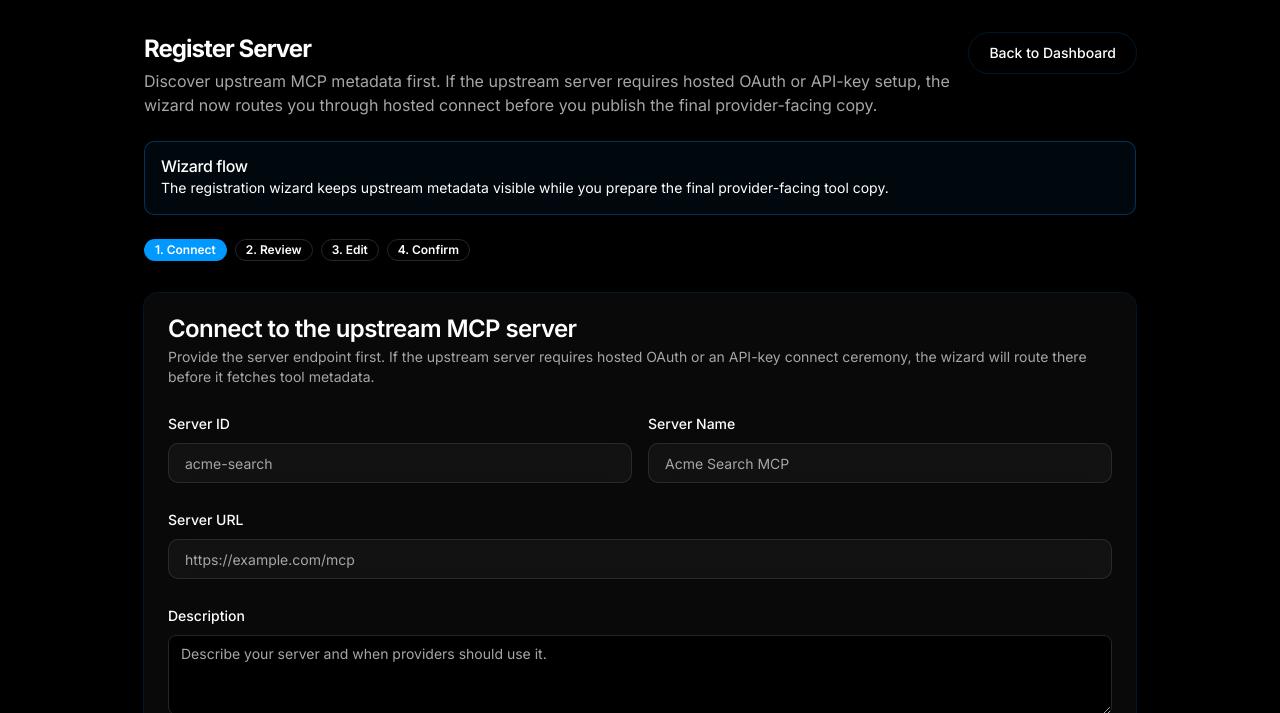
it: RegisterServer page › shows the raw schema fallback when structured parameter metadata is unavailable
Type "srv" into the field labelled "Server ID".
click(400, 463); type("srv")  # box x1=168 y1=443 x2=632 y2=483
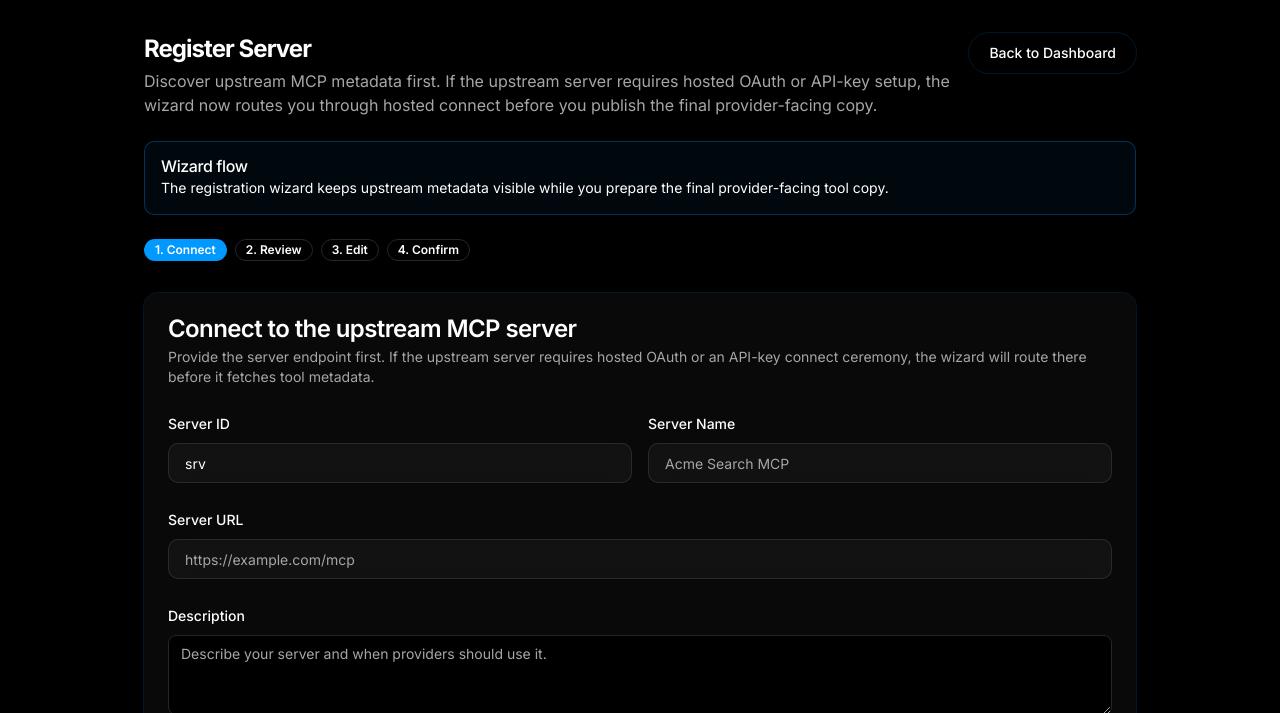
Type "Owned Server" into the field labelled "Server Name".
click(880, 463); type("Owned Server")  # box x1=648 y1=443 x2=1112 y2=483
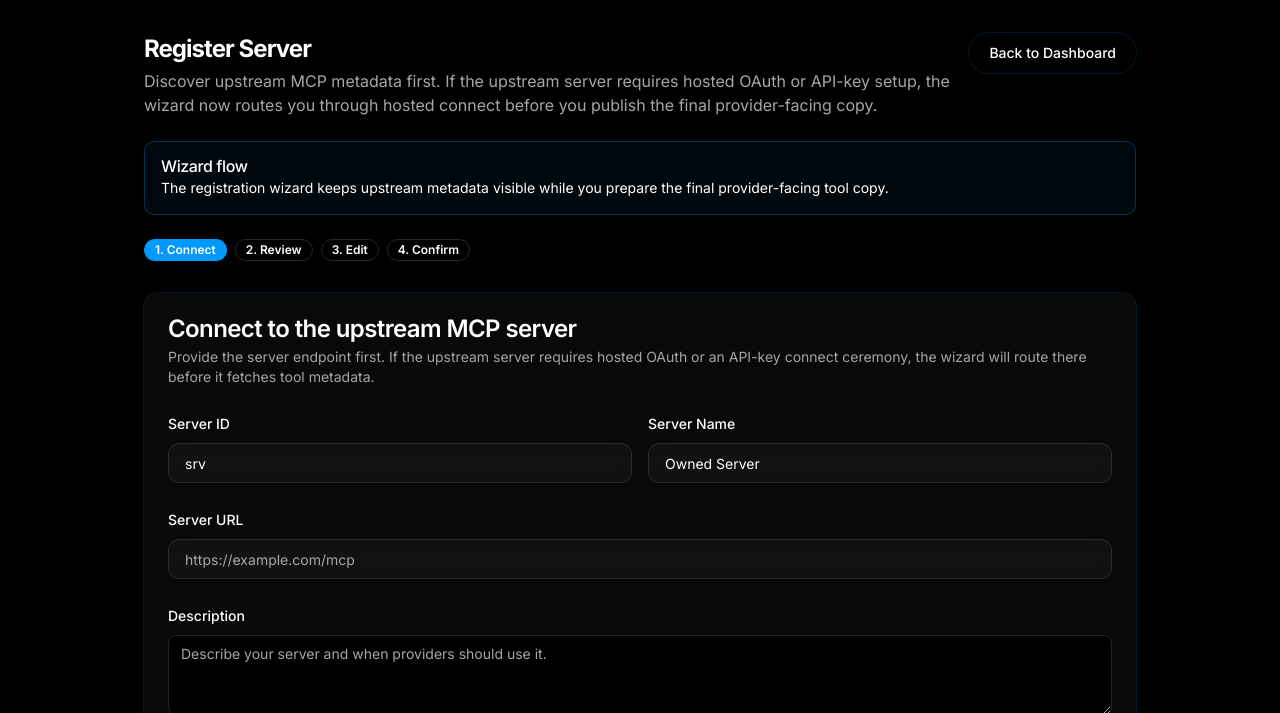
Type "https://provider.test/mcp" into the field labelled "Server URL".
click(640, 559); type("https://provider.test/mcp")  # box x1=168 y1=539 x2=1112 y2=579
(page scrolled)
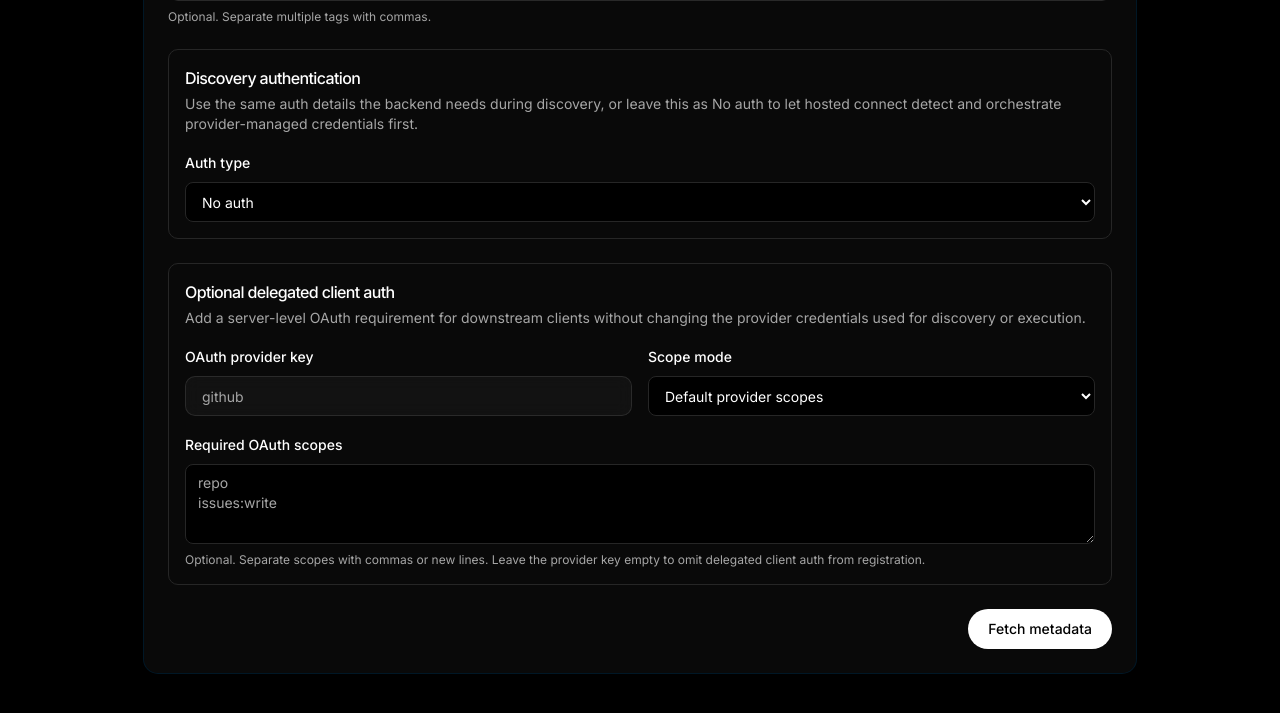
Click the button "Fetch metadata".
click(1040, 629)  # box x1=968 y1=609 x2=1112 y2=649
(page scrolled)
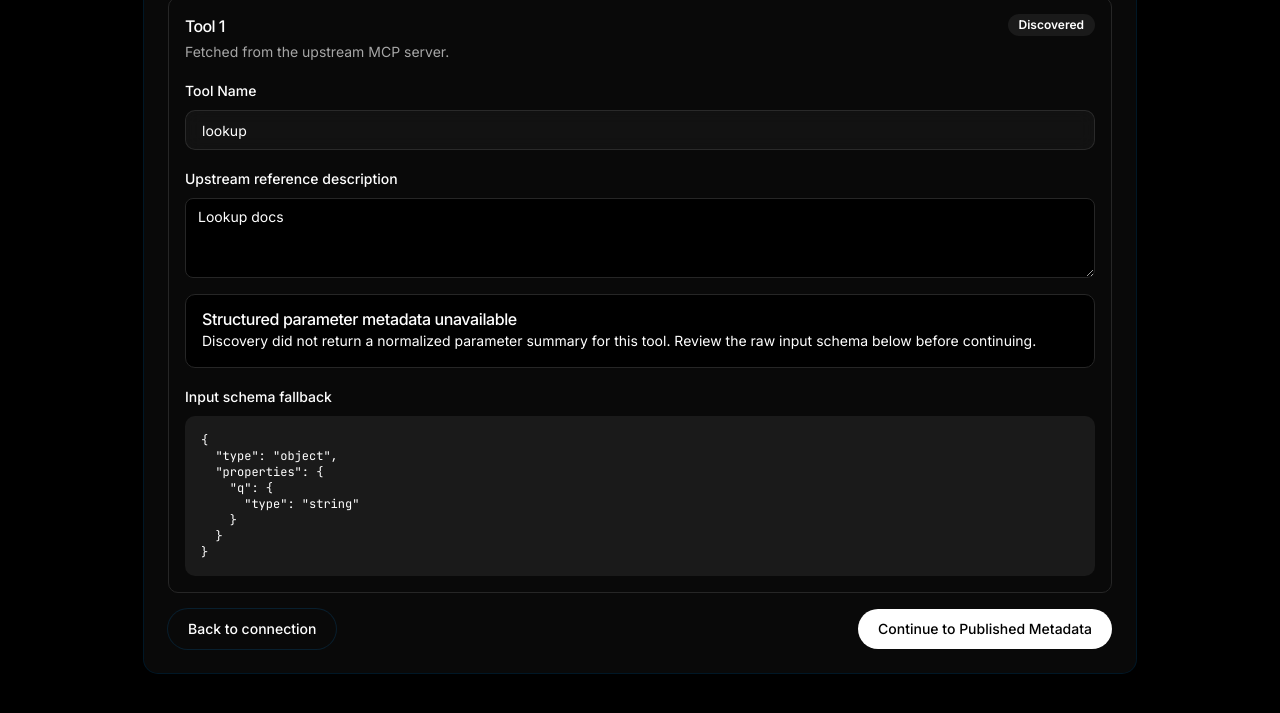
Check: the heading "Structured parameter metadata unavailable" is shown, box x1=202 y1=309 x2=517 y2=329
Check: the text "review the raw input schema below" is shown, box x1=202 y1=332 x2=1036 y2=349
Check: the text "Input schema fallback" is shown, box x1=185 y1=388 x2=332 y2=405
